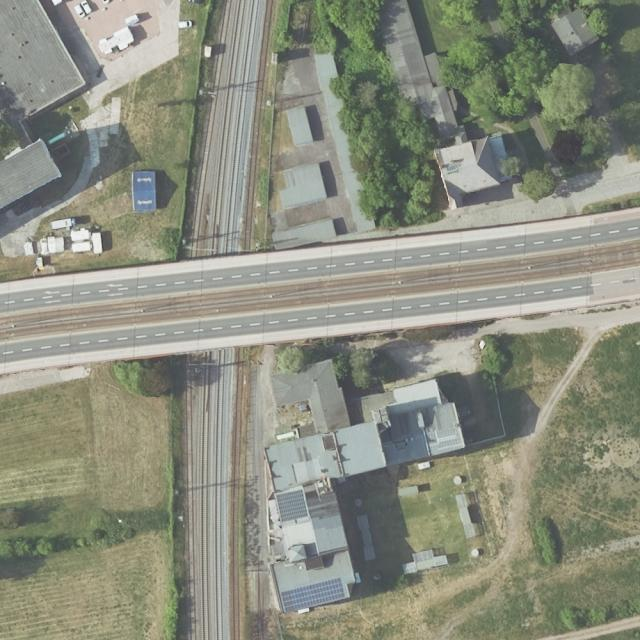PV: (281, 577, 345, 614), (275, 490, 308, 523)
